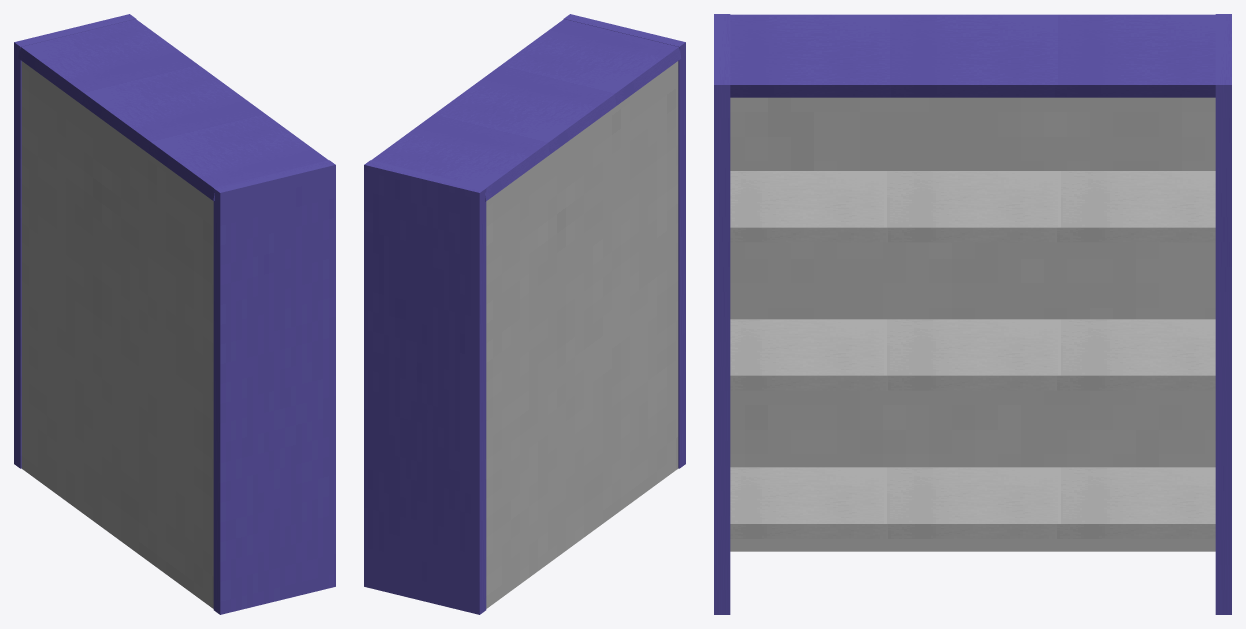
Rendered from mod_EstanteriaDulces_Rectangular.fbx.
The picture shows the model from 3 angles, left to right: view 1: azimuth 30°, elevation 25°; view 2: azimuth 150°, elevation 25°; view 3: azimuth 270°, elevation 25°; orthographic projection. The views are drawn at different scales.
Parts seen in each view (by area): view 1: msh_paredEstante, msh_paredEstante2, msh_nivelEstanteAllFaces.004, msh_paredEstante3; view 2: msh_paredEstante, msh_paredEstante3, msh_nivelEstanteAllFaces.004, msh_paredEstante2; view 3: msh_paredEstante, msh_nivelEstanteAllFaces.004, msh_nivelEstante.003, msh_nivelEstante.002, msh_nivelEstanteAllFaces.003, msh_paredEstante2, msh_paredEstante3.
Boxes of the visible parts, box(x1,y1,x2,y2) form: msh_paredEstante: box(21, 61, 213, 608); msh_paredEstante2: box(213, 160, 335, 614); msh_nivelEstanteAllFaces.004: box(18, 19, 328, 200); msh_paredEstante3: box(14, 14, 135, 468); msh_paredEstante: box(486, 61, 678, 608); msh_paredEstante3: box(364, 160, 486, 614); msh_nivelEstanteAllFaces.004: box(371, 19, 681, 201); msh_paredEstante2: box(564, 14, 685, 468); msh_paredEstante: box(730, 97, 1215, 551); msh_nivelEstanteAllFaces.004: box(730, 14, 1215, 97); msh_nivelEstante.003: box(730, 467, 1215, 538); msh_nivelEstante.002: box(730, 319, 1215, 390); msh_nivelEstanteAllFaces.003: box(730, 171, 1215, 242); msh_paredEstante2: box(714, 14, 730, 614); msh_paredEstante3: box(1215, 14, 1231, 614).
Bounding box in the file's own units: 52.41 × 181 × 160.
